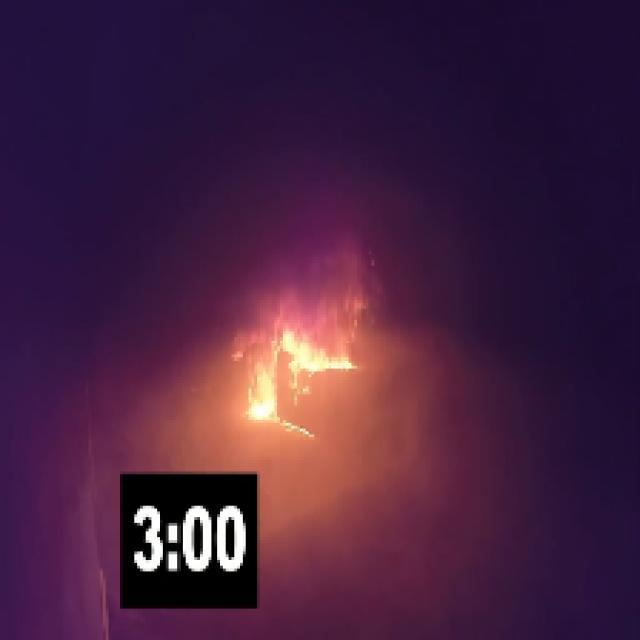Fire: (240, 314, 369, 429)
Smoke: (188, 137, 394, 292)
